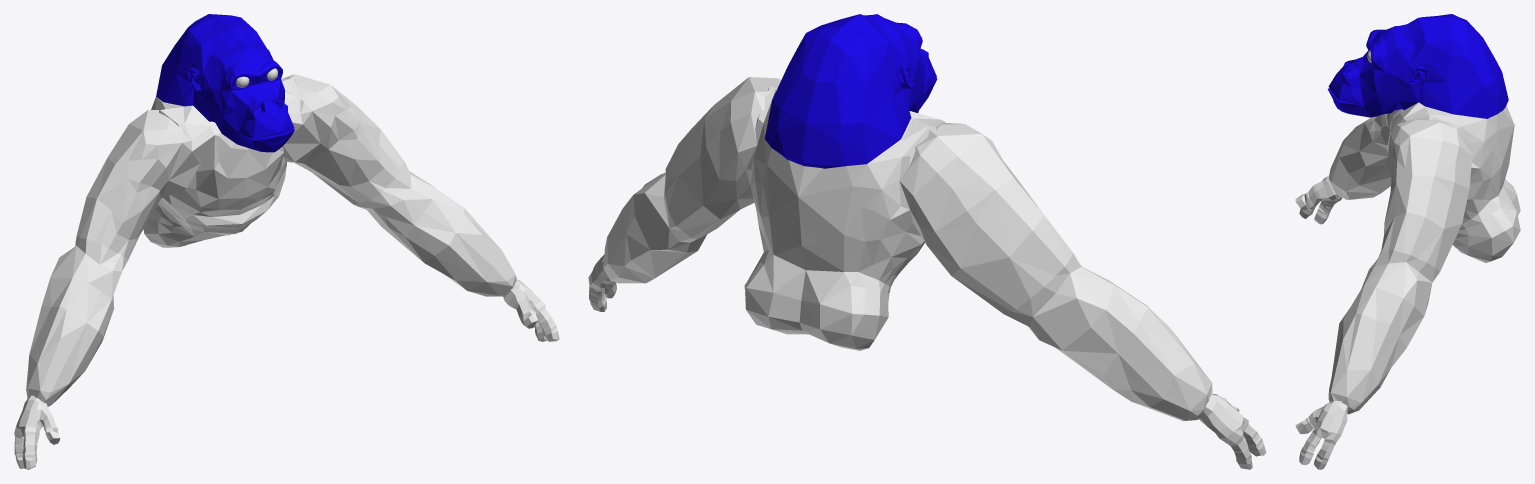
3 renders of one model, left to right at view 1: azimuth 30°, elevation 25°; view 2: azimuth 150°, elevation 25°; view 3: azimuth 270°, elevation 25°, orthographic. The views are drawn at different scales.
Parts seen in each view (by area): view 1: Body_Arm_R, Body_Arm_L, Body_Head, Body_Torso, Body_Butt #9362; view 2: Body_Arm_R, Body_Head, Body_Torso, Body_Arm_L, Body_Butt #9362; view 3: Body_Arm_L, Body_Head, Body_Arm_R, Body_Torso, Body_Butt #9362.
Part boxes in pixels (left/top/right/bottom): Body_Arm_R: left=14, top=110, right=200, bottom=469; Body_Arm_L: left=283, top=74, right=559, bottom=341; Body_Head: left=156, top=14, right=294, bottom=152; Body_Torso: left=151, top=77, right=302, bottom=236; Body_Butt #9362: left=143, top=204, right=249, bottom=247; Body_Arm_R: left=899, top=123, right=1266, bottom=469; Body_Head: left=765, top=14, right=937, bottom=168; Body_Torso: left=746, top=85, right=945, bottom=286; Body_Arm_L: left=588, top=77, right=781, bottom=311; Body_Butt #9362: left=744, top=250, right=890, bottom=350; Body_Arm_L: left=1295, top=117, right=1472, bottom=469; Body_Head: left=1327, top=14, right=1508, bottom=118; Body_Arm_R: left=1295, top=113, right=1391, bottom=224; Body_Torso: left=1386, top=102, right=1514, bottom=223; Body_Butt #9362: left=1452, top=178, right=1520, bottom=262.
Size of the model in its own units: 157 by 95.51 by 59.41.
